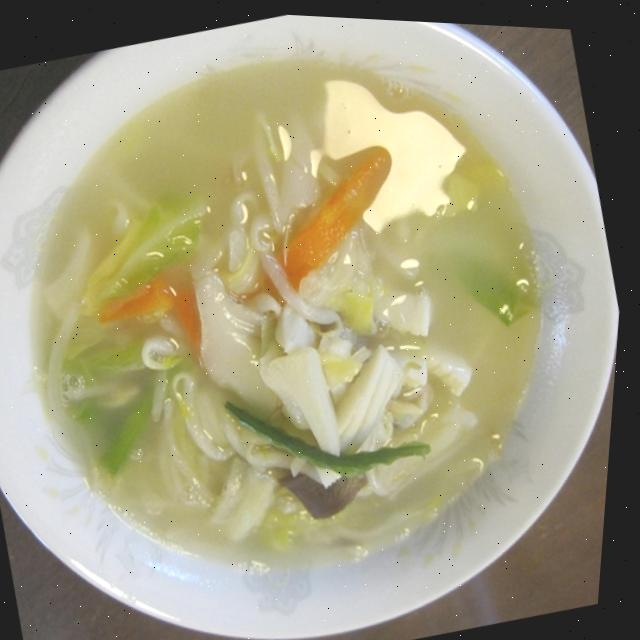面条主食: (0, 22, 615, 628)
